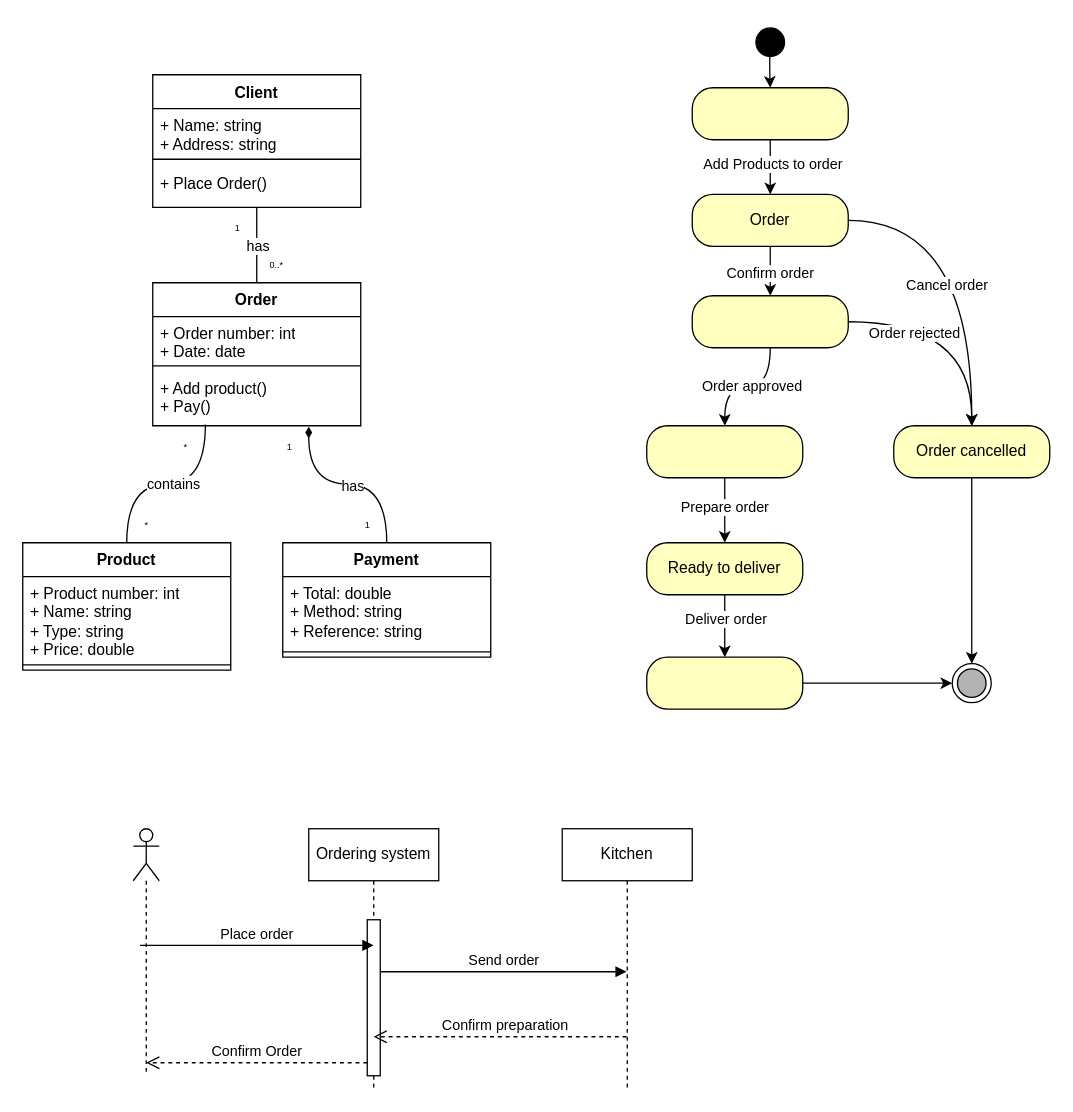
Image size: 1073x1112. Some labels were removed from this diagram. Here are the shapes that lost their labels. From the top down, the centre of each, then its label:
At [769,113]: "Empty Order".
At [769,321]: "Confirmed Order".
At [724,451]: "Preparing order".
At [724,682]: "Delivered".
